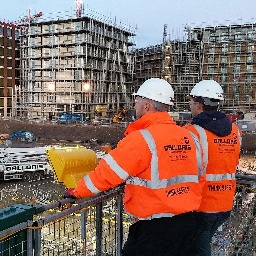helmet: (128, 76, 179, 108), (183, 78, 228, 105)
person: (116, 76, 193, 256), (185, 78, 243, 256)
vest: (118, 115, 200, 219), (186, 121, 244, 218)
